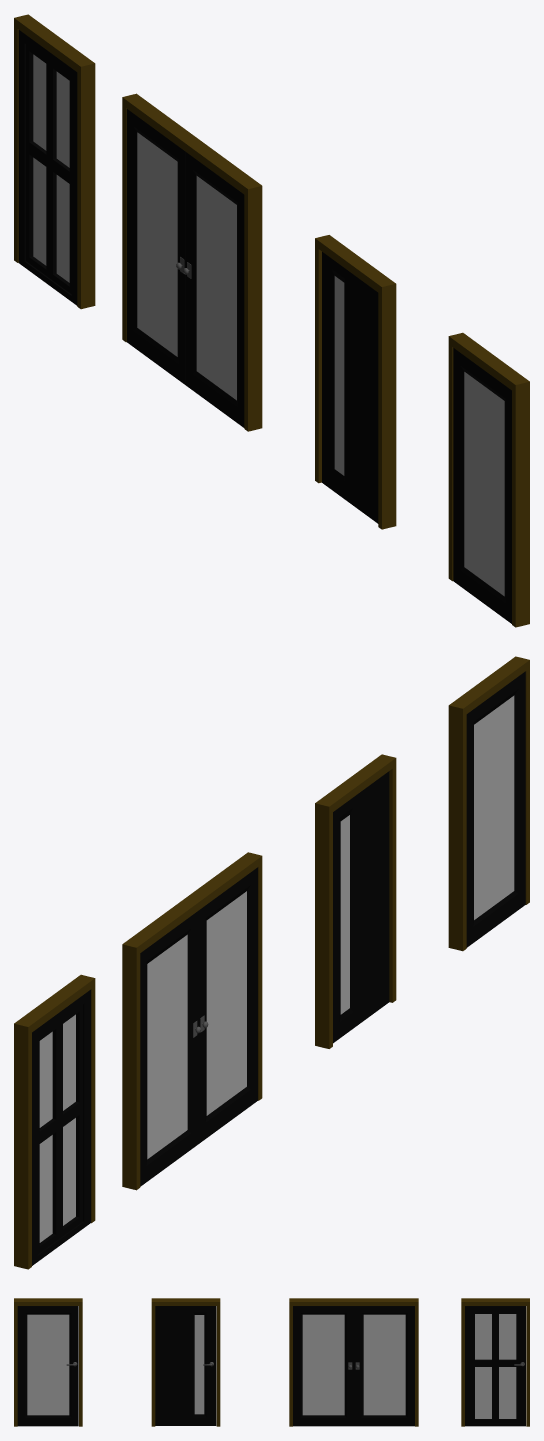
The model's file is doors_stylish_glass_door.glb.
The picture shows the model from 3 angles, top to bottom: view 1: azimuth 30°, elevation 25°; view 2: azimuth 150°, elevation 25°; view 3: azimuth 270°, elevation 25°; orthographic projection. The views are drawn at different scales.
Parts seen in each view (by area): view 1: Cube.016, Cube.012, Cube.014, Cube.008, Cube.002, Cube.011, Cube.001, Cube.009, Cube.007, Cube.003, Cube.005, Cube.004 (+1 smaller); view 2: Cube.012, Cube.014, Cube.016, Cube.008, Cube.002, Cube.011, Cube.001, Cube.009, Cube.007, Cube.005, Cube.003, Cube.006 (+1 smaller); view 3: Cube.012, Cube.008, Cube.014, Cube.016, Cube.002, Cube.011, Cube.001, Cube.007, Cube.009, Cube.005, Cube.003, Cube.006 (+1 smaller).
Part boxes in pixels (box(x1,y1,x2,y2)): Cube.016: box(126, 109, 185, 385); Cube.012: box(453, 348, 511, 623); Cube.014: box(186, 152, 244, 427); Cube.008: box(322, 252, 378, 523); Cube.002: box(18, 30, 77, 305); Cube.011: box(122, 93, 262, 431); Cube.001: box(315, 235, 396, 529); Cube.009: box(448, 332, 529, 627); Cube.007: box(14, 14, 95, 309); Cube.003: box(56, 175, 69, 282); Cube.005: box(33, 157, 46, 265); Cube.004: box(56, 71, 69, 167); Cube.012: box(466, 671, 525, 947); Cube.014: box(198, 867, 257, 1143); Cube.016: box(140, 911, 198, 1186); Cube.008: box(333, 771, 389, 1043); Cube.002: box(32, 989, 90, 1265); Cube.011: box(122, 852, 262, 1190); Cube.001: box(315, 754, 396, 1048); Cube.009: box(448, 656, 529, 951); Cube.007: box(14, 974, 95, 1269); Cube.005: box(39, 1135, 52, 1242); Cube.003: box(63, 1118, 75, 1225); Cube.006: box(39, 1031, 52, 1127); Cube.012: box(17, 1306, 78, 1426); Cube.008: box(155, 1306, 216, 1425); Cube.014: box(293, 1306, 353, 1426); Cube.016: box(354, 1306, 414, 1426); Cube.002: box(465, 1306, 525, 1426); Cube.011: box(289, 1298, 418, 1426); Cube.001: box(151, 1298, 220, 1426); Cube.007: box(461, 1298, 529, 1426); Cube.009: box(14, 1298, 82, 1426); Cube.005: box(499, 1367, 516, 1418); Cube.003: box(475, 1367, 491, 1418); Cube.006: box(499, 1314, 516, 1359).
Size of the model in its own units: 0.2183 by 2.14 by 8.01.
